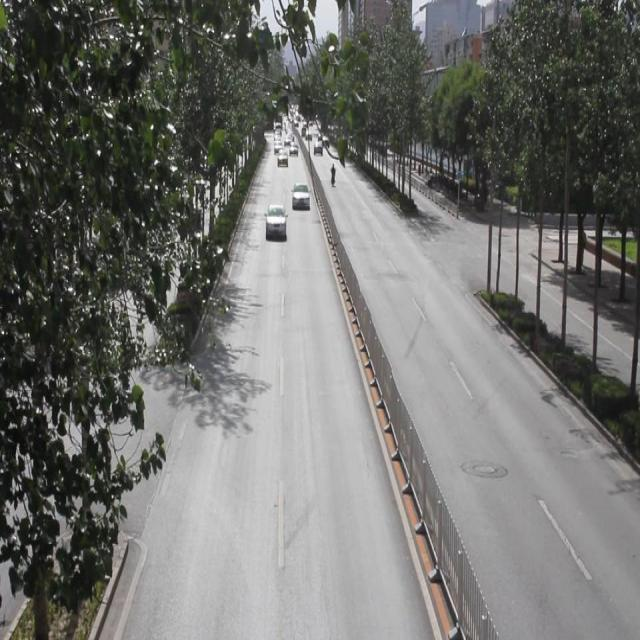car: (264, 204, 286, 237), (292, 181, 310, 207)
